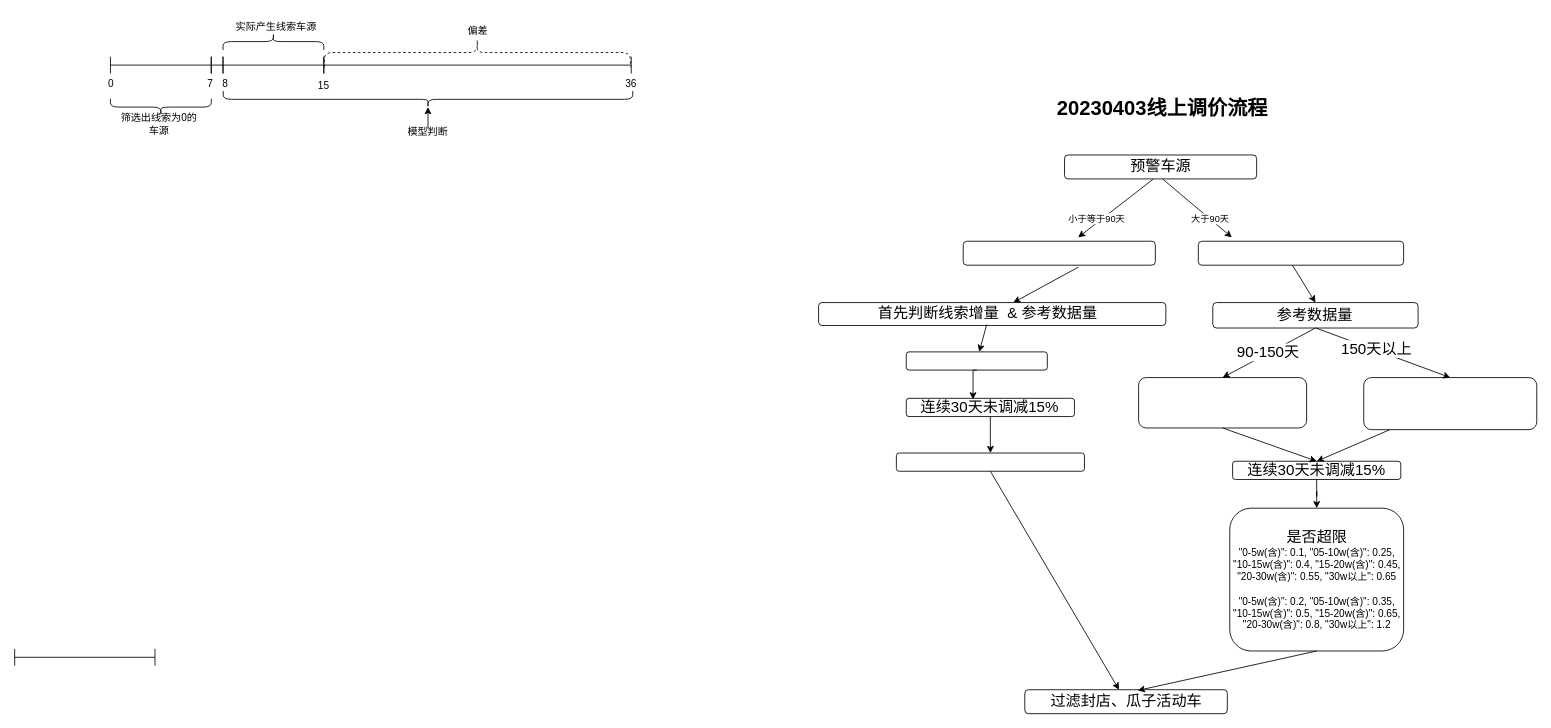
This 1551x728 diagram has some shape labels left out. The centre of each missing label's shape, as x and y in pixels:
"40%性价比" goes at point 976,360.
"同基本配置车系模型" goes at point 1301,252.
"是否超限（采购总成本）" goes at point 990,461.
"线索增量 & 性价比20% 二者都满足则不调" goes at point 1450,403.
"线索增量 | 性价比30% 二者满足其一则不调" goes at point 1222,402.
"车型性价比模型" goes at point 1058,252.
